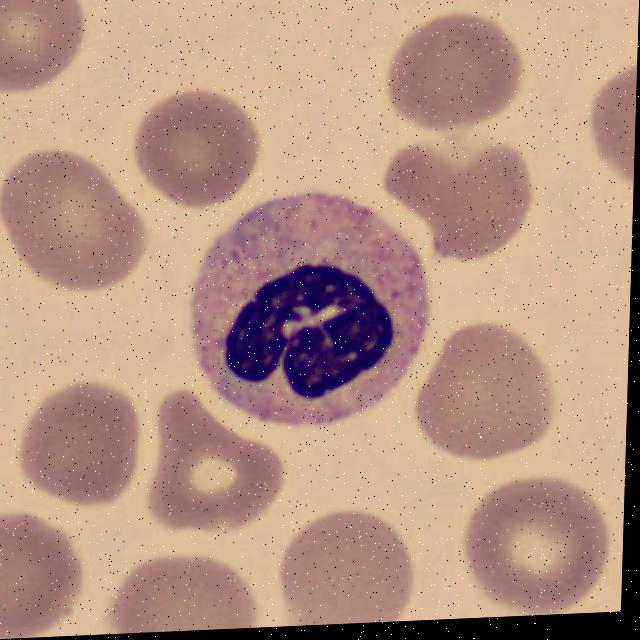neutrophil: (184, 184, 436, 437)
rbc: (8, 148, 139, 290), (389, 134, 531, 255), (383, 9, 519, 131), (423, 329, 560, 450), (461, 484, 600, 600), (271, 512, 411, 627), (17, 385, 137, 508), (155, 409, 271, 533), (150, 89, 262, 203), (100, 558, 249, 634), (0, 514, 82, 628), (0, 0, 83, 102), (580, 61, 637, 185)
